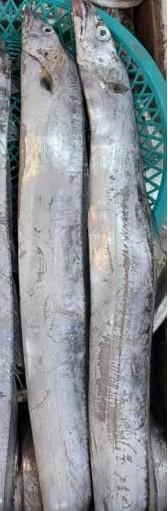fish: (74, 0, 155, 510)
